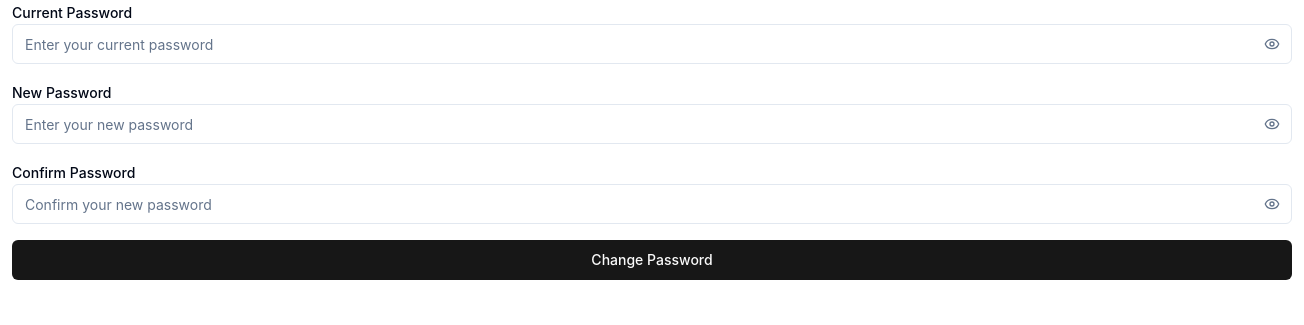
Test: PasswordChangeForm › reports a confirmation that differs from the new password
Type "current-password" into the password field labelled "Current Password" at coordinates (652, 44), box 12,24 -> 1292,64
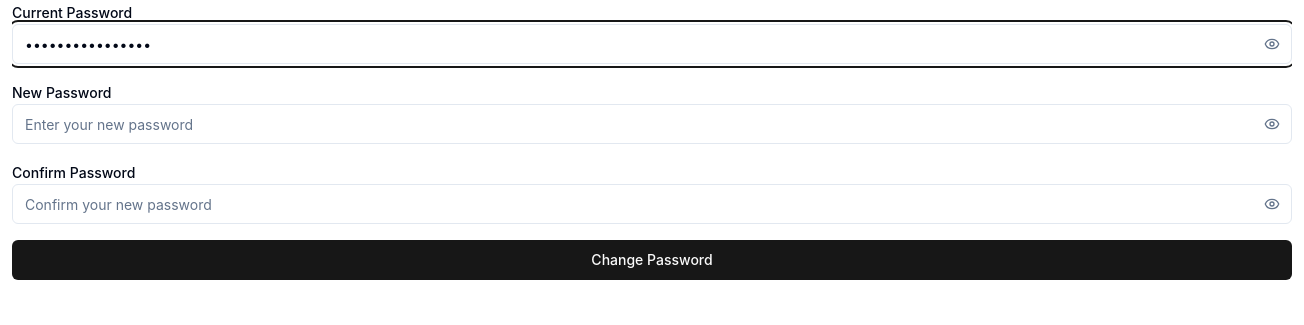
Type "brand-new-password" into the password field labelled "New Password" at coordinates (652, 124), box 12,104 -> 1292,144
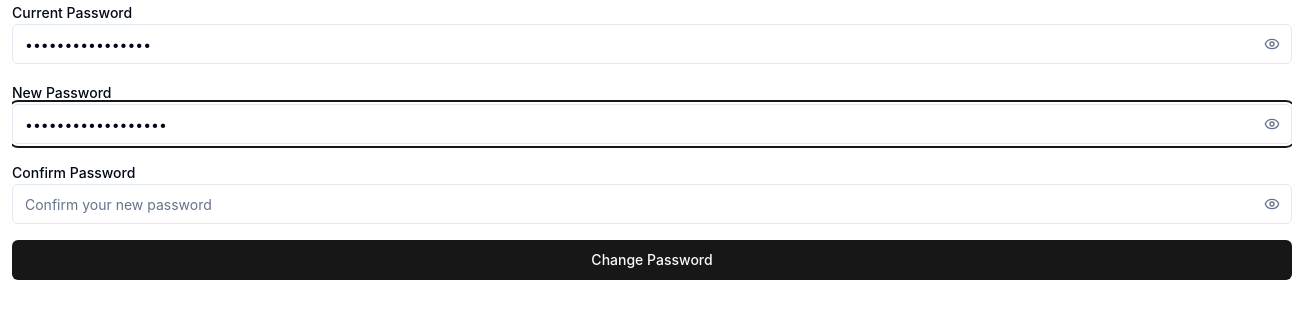
Type "another-password" into the password field labelled "Confirm Password" at coordinates (652, 204), box 12,184 -> 1292,224
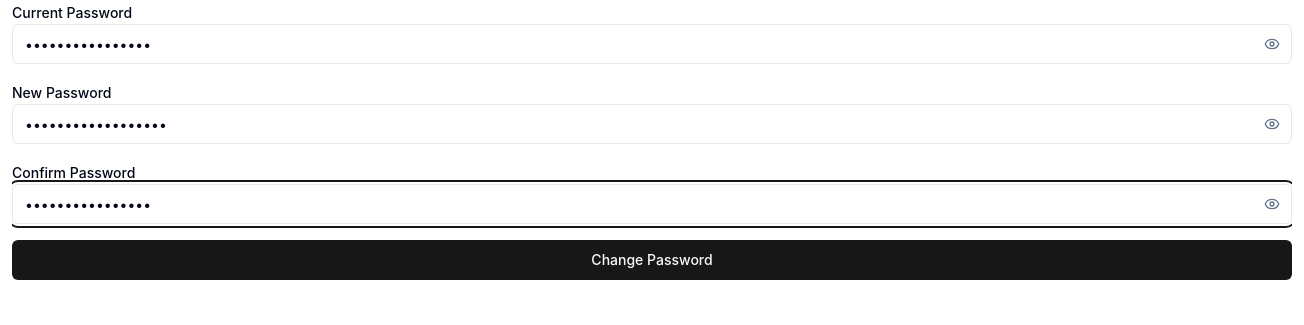
Click the button "Change Password" at coordinates (652, 260), box 12,240 -> 1292,280
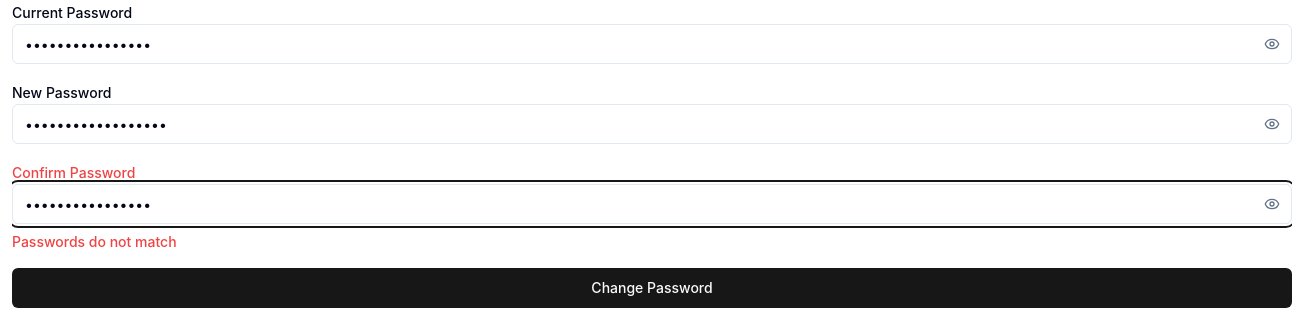
Check: the text "Passwords do not match" is shown, box 12,233 -> 177,250
